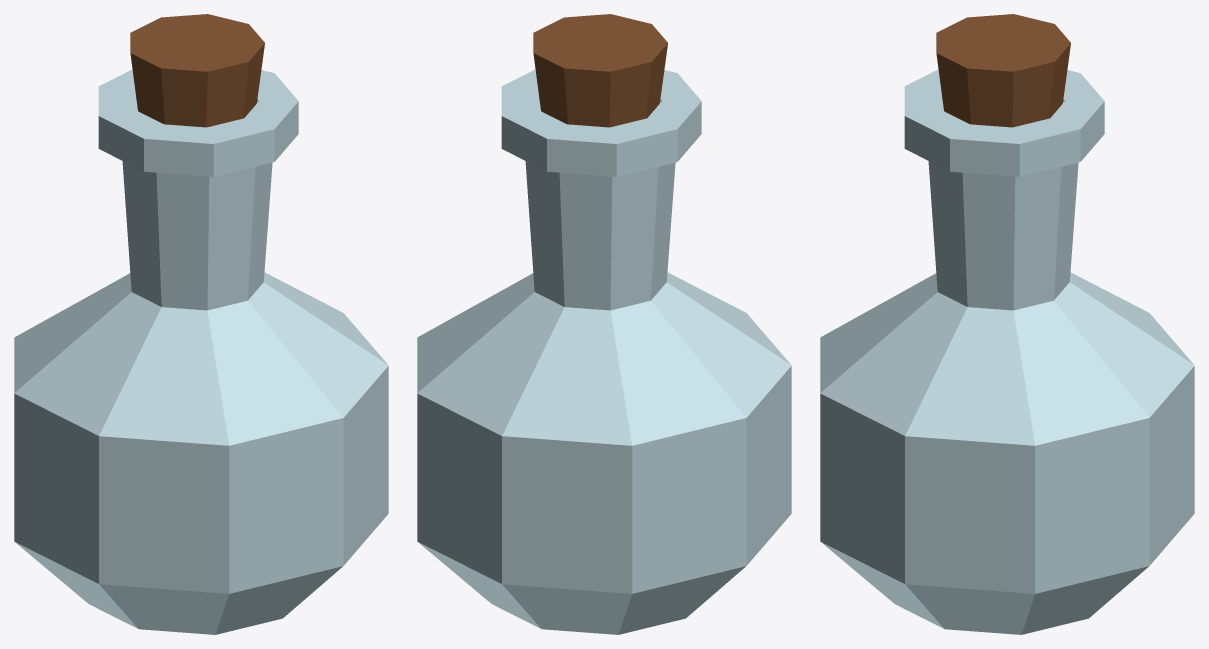
File: trial_potion.fbx
3 views of the same model, side by side, from view 1: azimuth 30°, elevation 25°; view 2: azimuth 150°, elevation 25°; view 3: azimuth 270°, elevation 25° (orthographic).
Visible parts, largest first — view 1: Circle; view 2: Circle; view 3: Circle.
Part boxes in pixels (left/top/right/bottom): Circle: left=14, top=14, right=388, bottom=634; Circle: left=417, top=14, right=791, bottom=634; Circle: left=820, top=14, right=1194, bottom=634.
Bounding box in the file's own units: 60.23 × 95.15 × 59.31.
